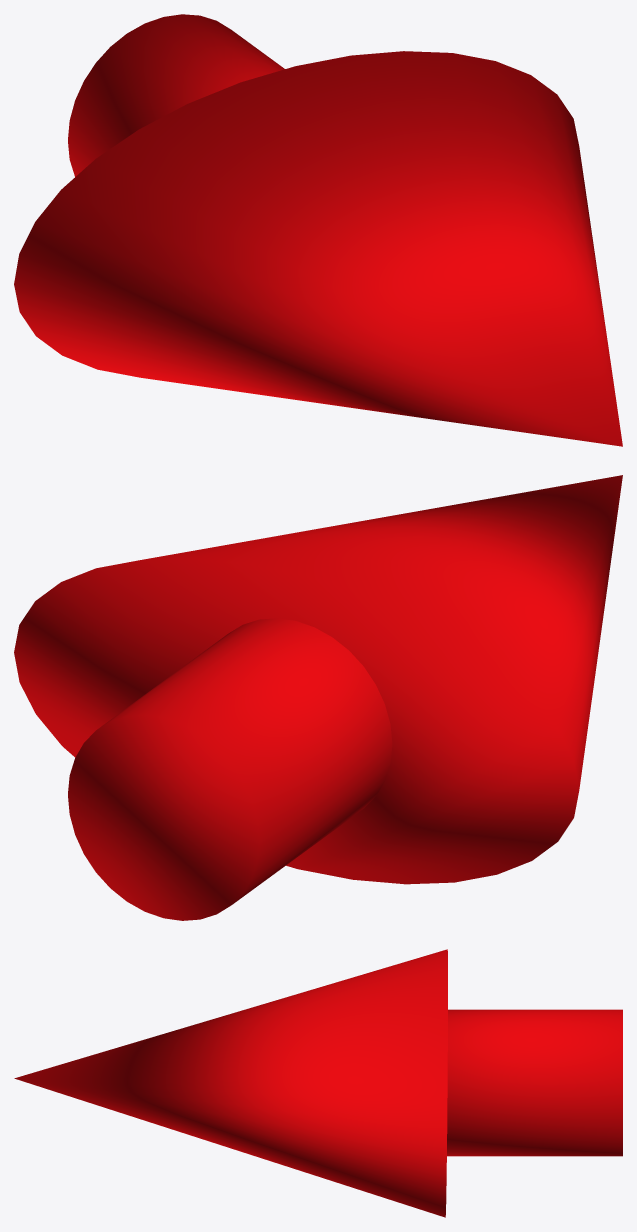
Rendered from arrow.fbx.
3 views of the same model, one above another, from view 1: azimuth 30°, elevation 25°; view 2: azimuth 150°, elevation 25°; view 3: azimuth 270°, elevation 25° (orthographic). The views are drawn at different scales.
Visible parts, largest first — view 1: Arrow; view 2: Arrow; view 3: Arrow.
Boxes of the visible parts, x1,y1,x2,y2 form: Arrow: [14, 14, 622, 446]; Arrow: [14, 475, 622, 920]; Arrow: [14, 949, 622, 1217].
Size of the model in its own units: 0.397 by 0.1993 by 0.5588.
